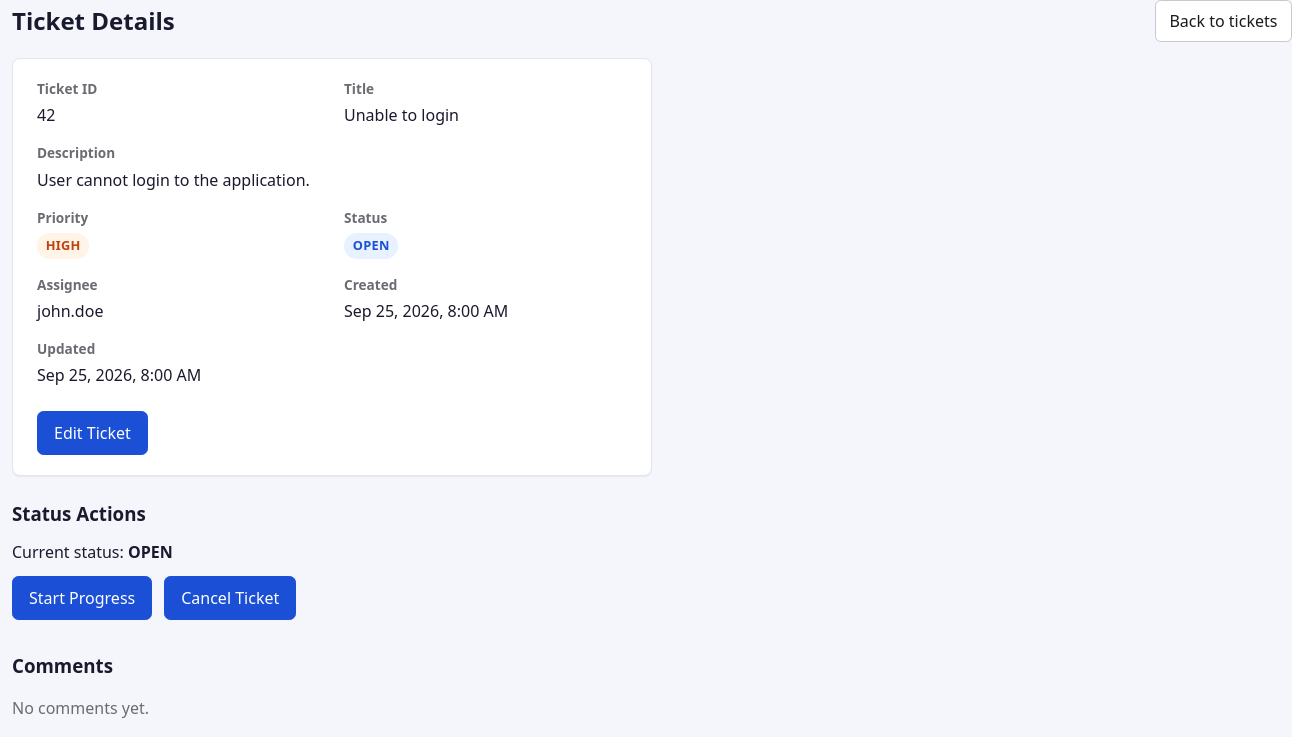
Test: TicketDetailsPage › discards unsaved changes when cancel is selected
Check: the text "Unable to login" is shown, box left=344, top=104, right=459, bottom=126
Click the button "Edit Ticket" at (92, 433), box left=37, top=411, right=148, bottom=455
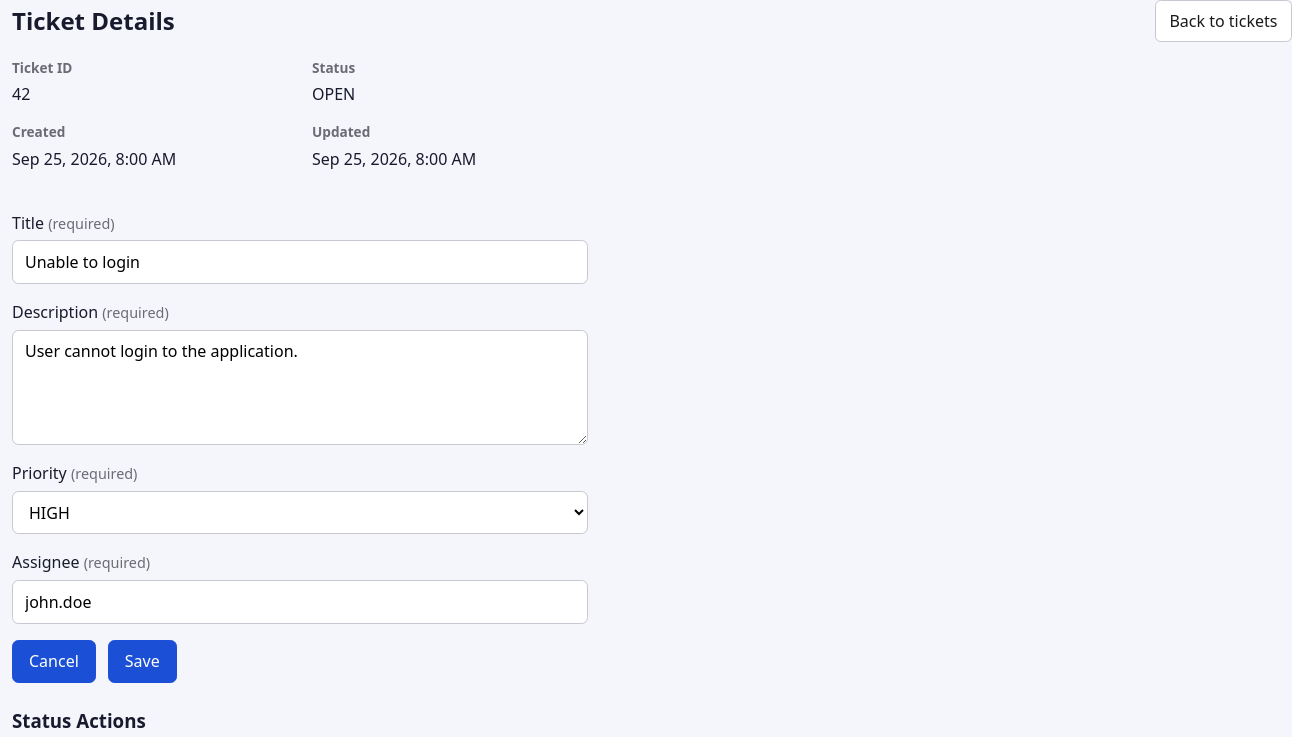
Replace the text in the field labelled "Title (required)" with "Unsaved title" at (300, 262), box left=12, top=240, right=588, bottom=284
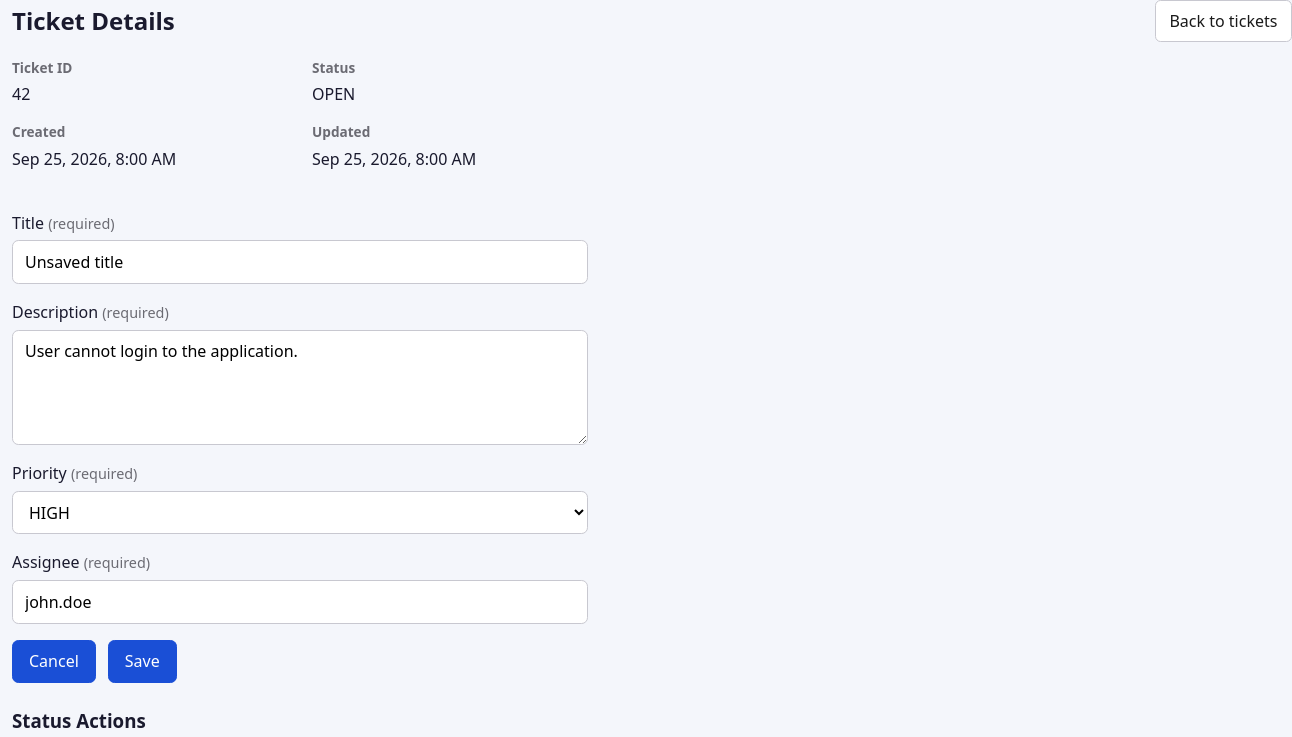
Click the button "Cancel" at (54, 661), box left=12, top=640, right=96, bottom=683
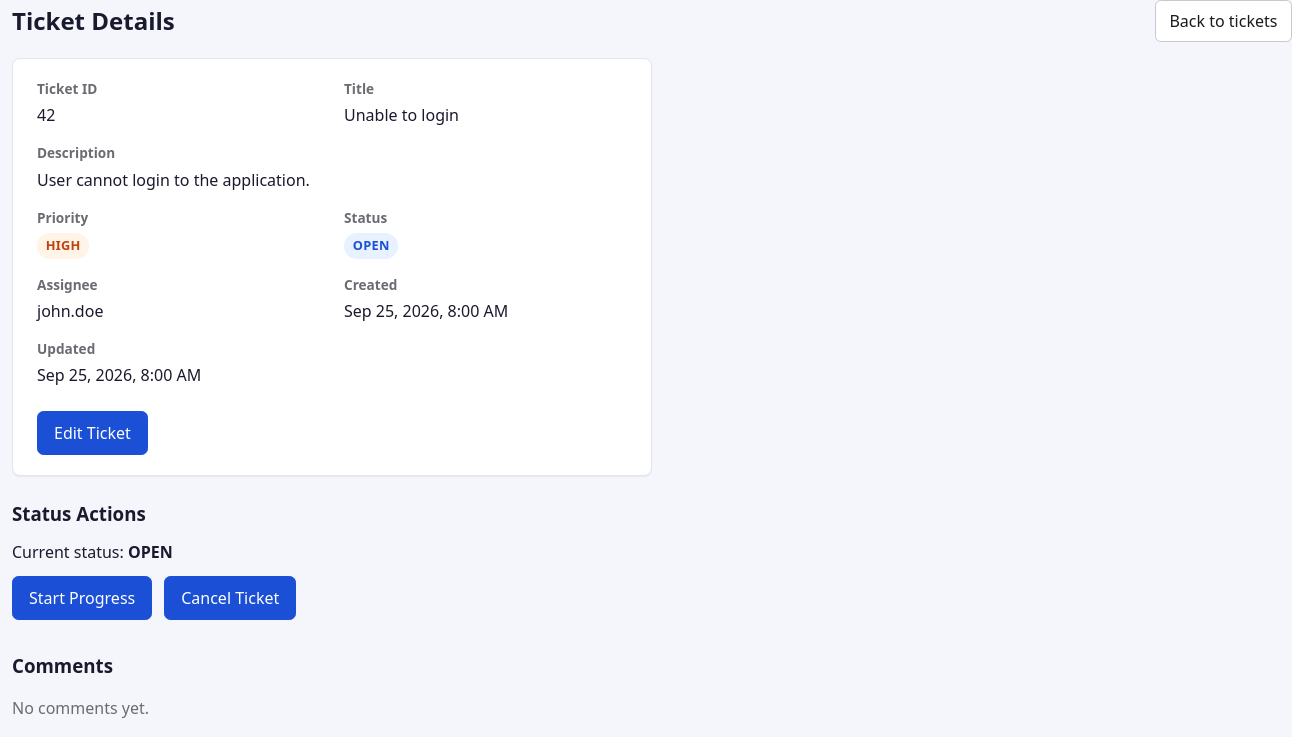
Check: the text "Unable to login" is shown, box left=344, top=104, right=459, bottom=126
